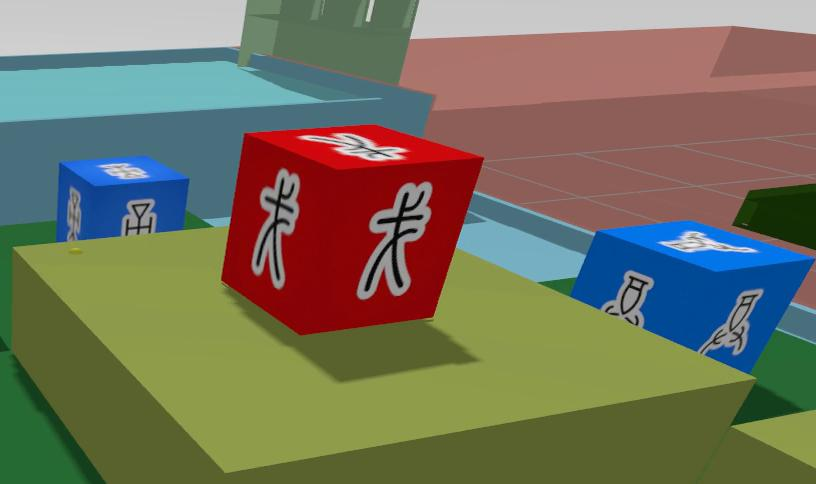KFS_FAKE: (222, 124, 482, 333), (357, 182, 432, 299), (252, 169, 299, 288), (300, 132, 408, 160)
KFS_REAL: (570, 221, 815, 371), (58, 156, 189, 241), (698, 289, 763, 354), (602, 271, 654, 327), (121, 200, 156, 235)
